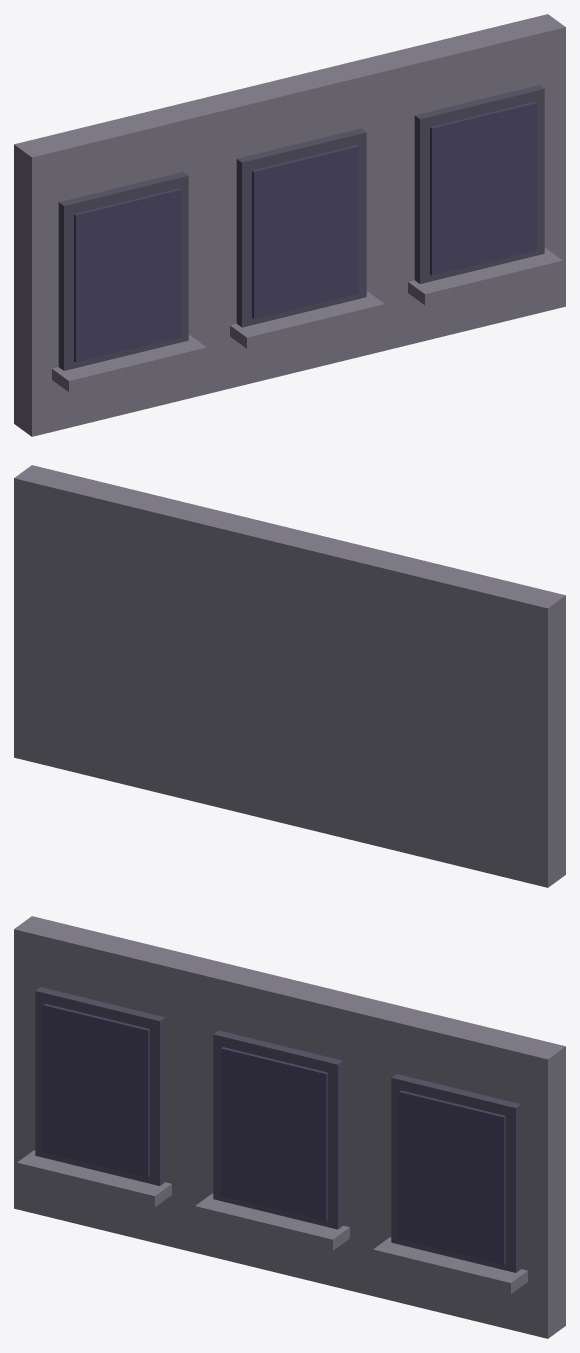
File: facade.glb
3 renders of one model, top to bottom at view 1: azimuth 30°, elevation 25°; view 2: azimuth 150°, elevation 25°; view 3: azimuth 330°, elevation 25°, orthographic.
Visible parts, largest first — view 1: wall, window (×3), window-frame (×3), sill (×3); view 2: wall; view 3: wall, window (×3), window-frame (×3), sill (×3).
Part boxes in pixels (x1,y1,x2,y2): wall: [14, 14, 565, 436]; window (×3): [74, 101, 536, 362]; window-frame (×3): [58, 85, 544, 370]; sill (×3): [52, 248, 562, 392]; wall: [14, 465, 565, 887]; wall: [14, 916, 565, 1338]; window (×3): [43, 1003, 505, 1264]; window-frame (×3): [35, 987, 521, 1272]; sill (×3): [17, 1150, 527, 1294].
Bounding box in the file's own units: 6 × 3 × 0.68.
